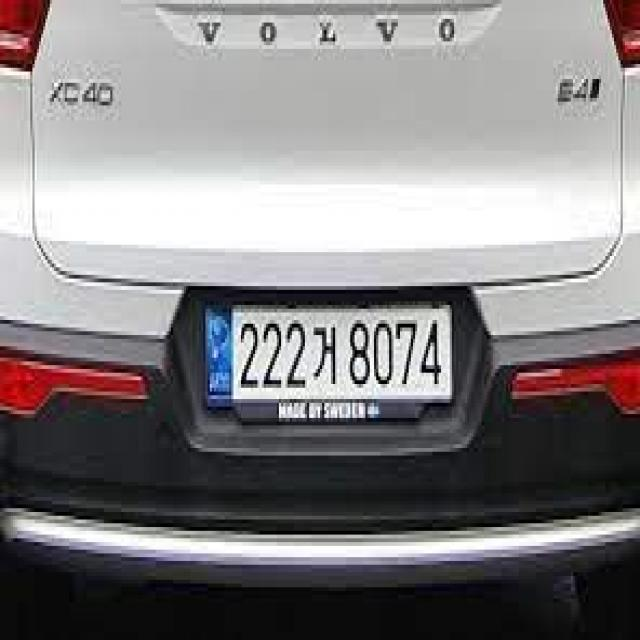illegal_plate: (203, 293, 456, 438)
